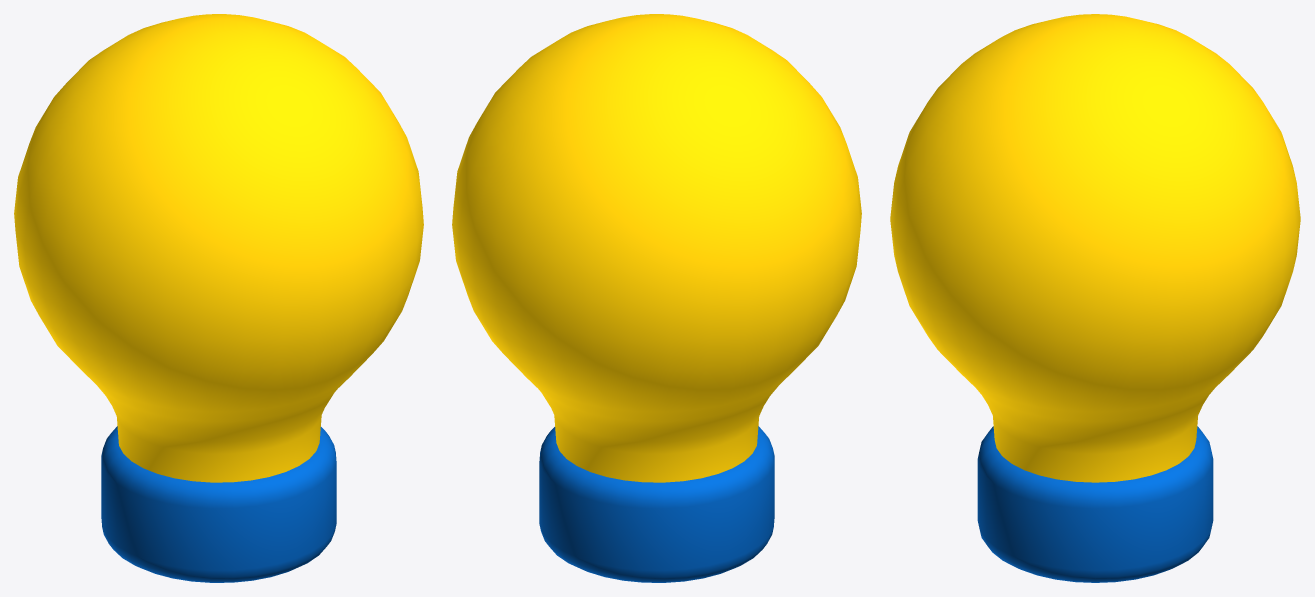
Rendered from Lightbulb.fbx.
The picture shows the model from 3 angles, left to right: view 1: azimuth 30°, elevation 25°; view 2: azimuth 150°, elevation 25°; view 3: azimuth 270°, elevation 25°; orthographic projection.
Parts seen in each view (by area): view 1: LightbulbMesh; view 2: LightbulbMesh; view 3: LightbulbMesh.
Boxes of the visible parts, <box> form: LightbulbMesh: <box>14,14,423,582</box>; LightbulbMesh: <box>452,14,861,582</box>; LightbulbMesh: <box>890,14,1300,582</box>.
Bounding box in the file's own units: 200 × 273 × 200.
